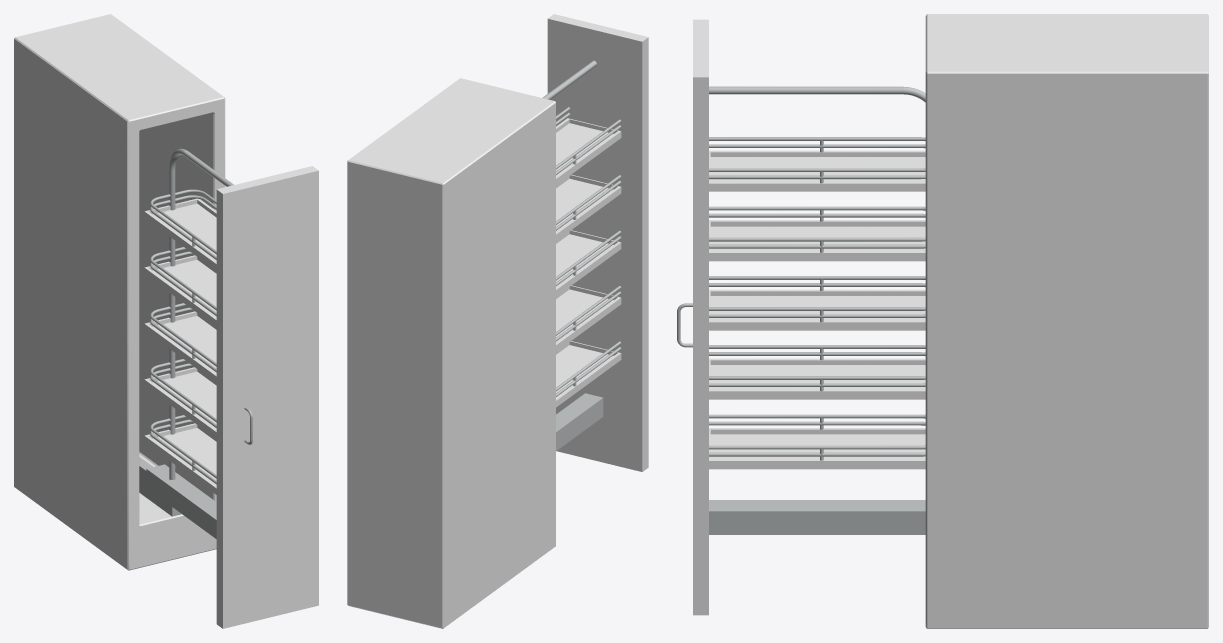
Rendered from pharmacist_cabinet_open.gltf.
3 renders of one model, left to right at view 1: azimuth 30°, elevation 25°; view 2: azimuth 150°, elevation 25°; view 3: azimuth 270°, elevation 25°, orthographic. The views are drawn at different scales.
Parts seen in each view (by area): view 1: Cube.030, Cube.031, Cube.033; view 2: Cube.030, Cube.031; view 3: Cube.030, Cube.031.
Boxes of the visible parts, left/top/right/bottom form: Cube.030: left=14, top=14, right=225, bottom=570; Cube.031: left=144, top=148, right=318, bottom=628; Cube.033: left=139, top=457, right=181, bottom=516; Cube.030: left=347, top=78, right=555, bottom=628; Cube.031: left=542, top=14, right=648, bottom=471; Cube.030: left=925, top=14, right=1208, bottom=628; Cube.031: left=677, top=19, right=925, bottom=615.
Size of the model in its own units: 0.9128 by 4.02 by 3.47.
2 materials, 2 textured.
